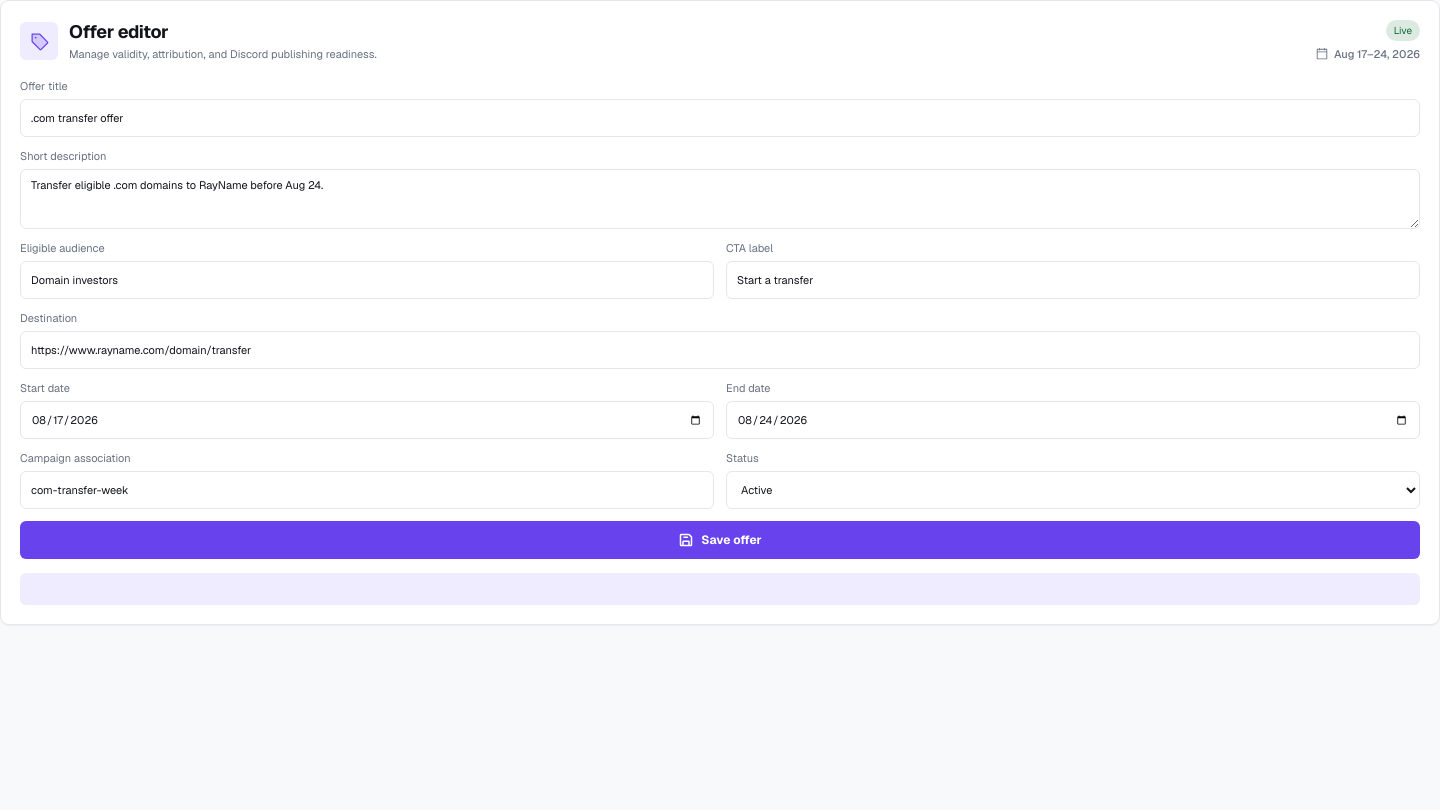
Test: extends and activates the .com Transfer Week offer
Type "2026-08-30" into the date field labelled "End date" at (1073, 420), box 726,401 -> 1420,439
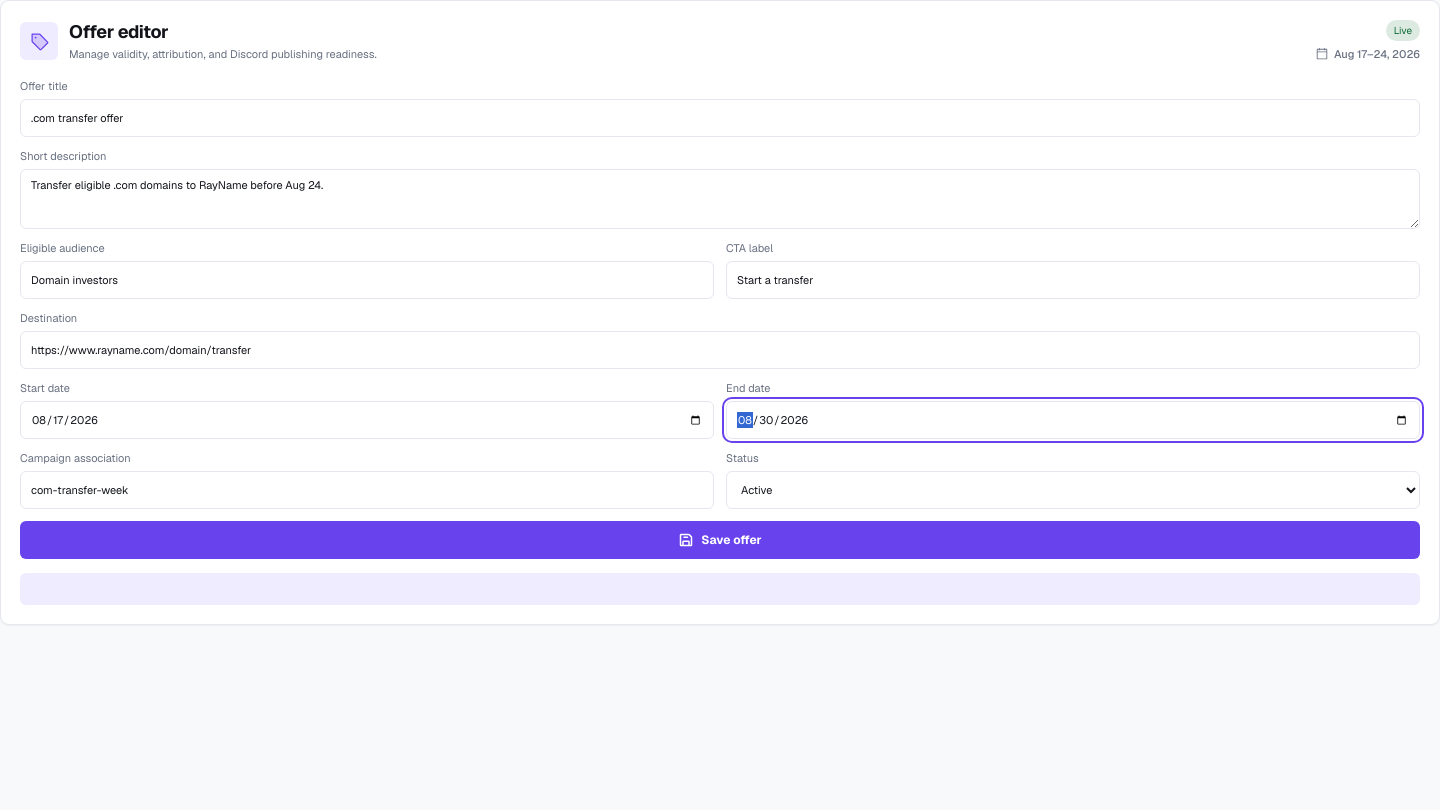
Select "Active" in the dropdown labelled "Status" at (1073, 490), box 726,471 -> 1420,509
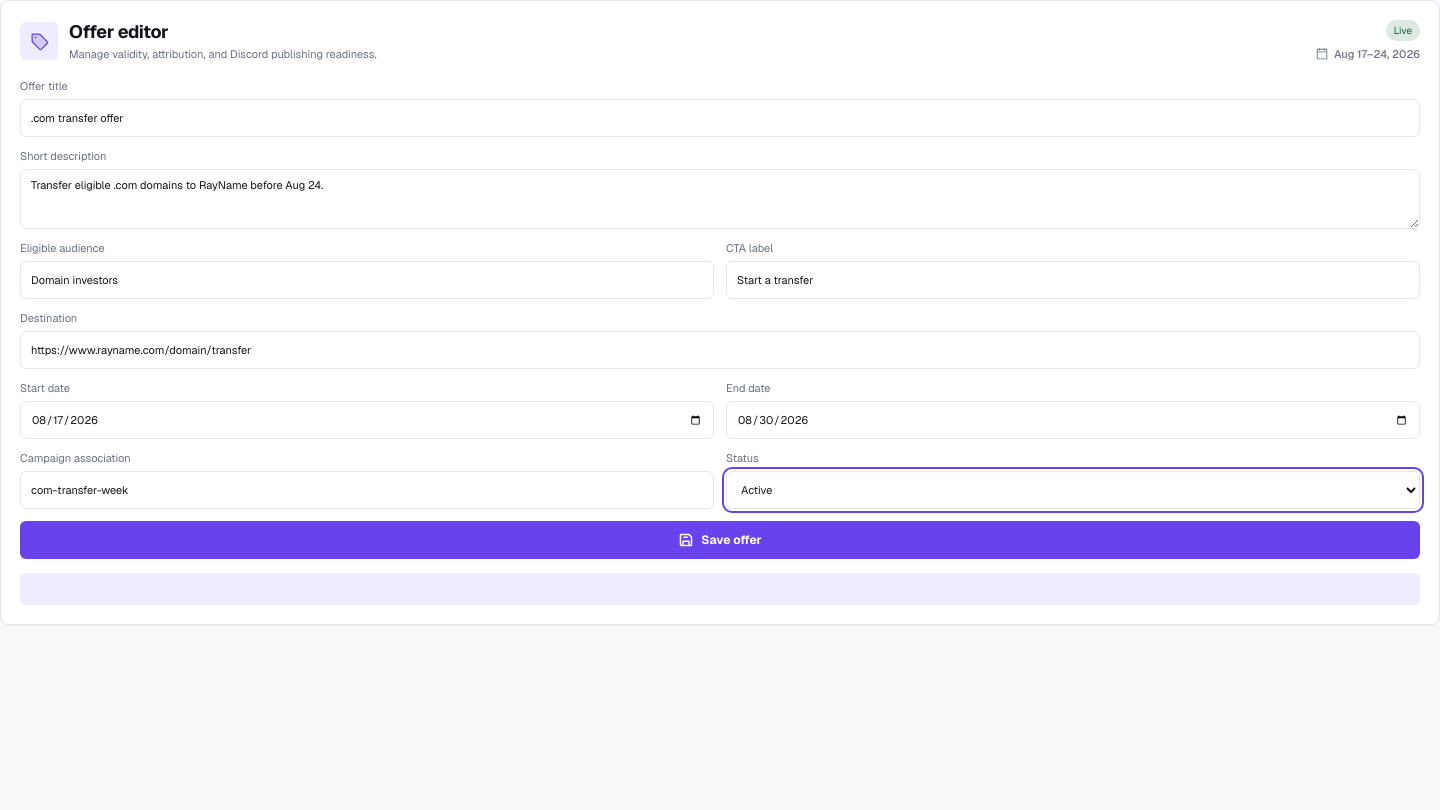
Click the button "Save offer" at (720, 540), box 20,521 -> 1420,559
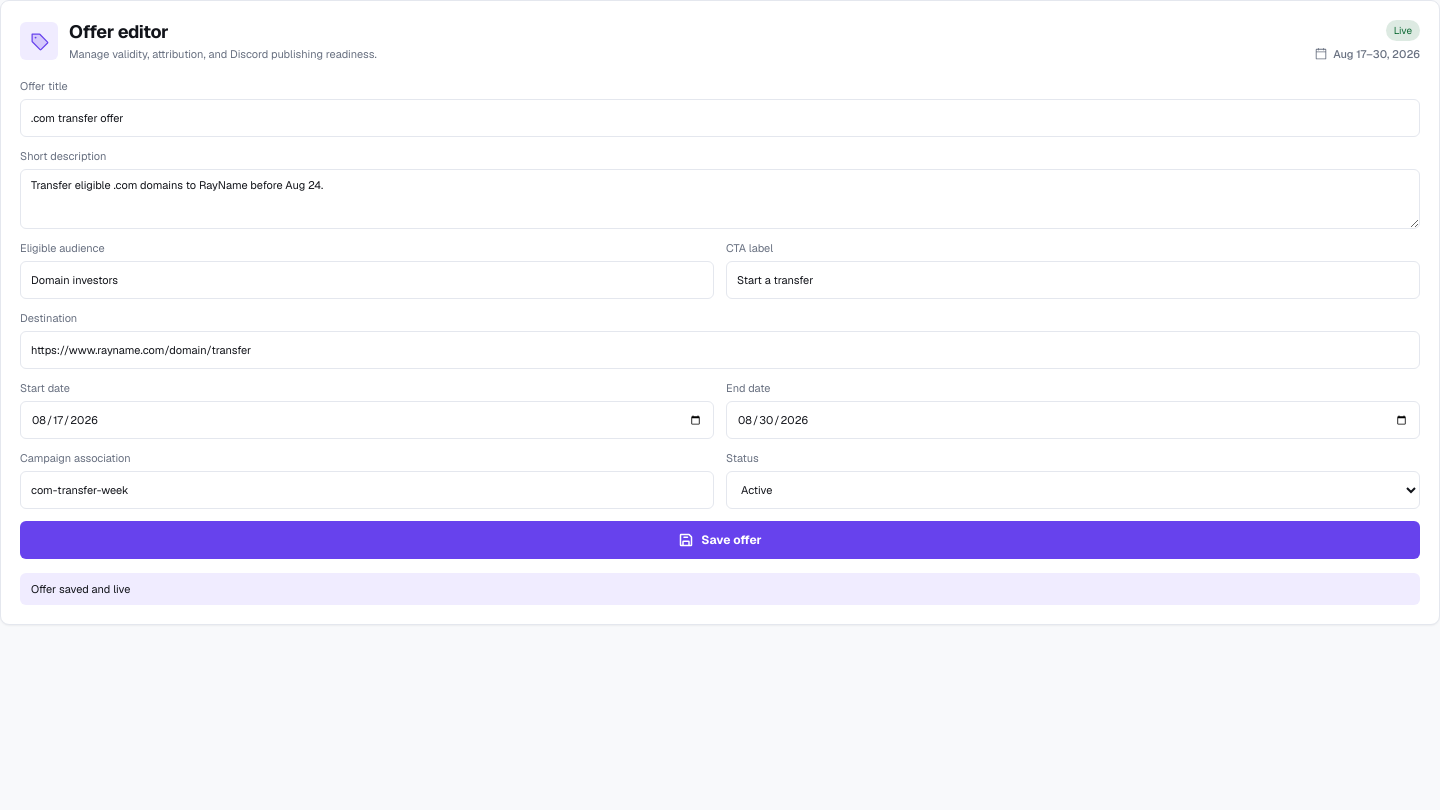
Expected: the text "Live" is shown, 1386,20 -> 1420,41
Now the text "Aug 17–30, 2026" is shown, box 1314,47 -> 1420,61
Now the message reads "Offer saved and live", box 31,582 -> 130,596
